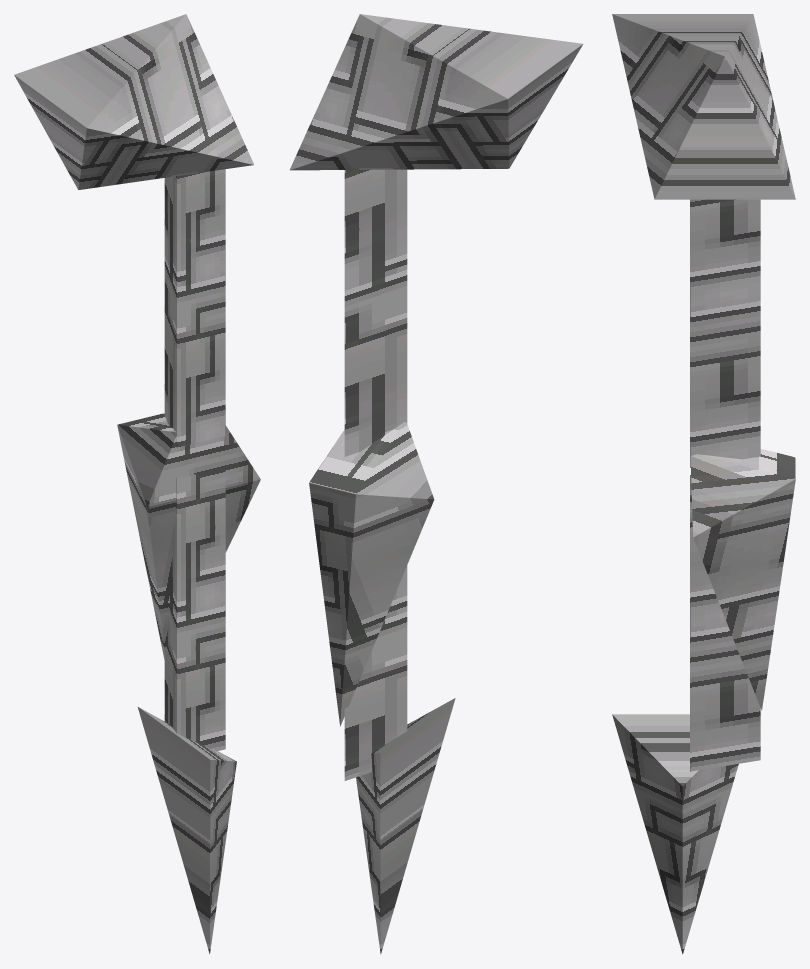
The model's file is RightFrameArmSkel.glb.
3 views of the same model, side by side, from view 1: azimuth 30°, elevation 25°; view 2: azimuth 150°, elevation 25°; view 3: azimuth 270°, elevation 25° (orthographic). The views are drawn at different scales.
Parts seen in each view (by area): view 1: RightFrameArmSkel_part00, RightFrameArmSkel_part01, RightFrameArmSkel_part02; view 2: RightFrameArmSkel_part00, RightFrameArmSkel_part01, RightFrameArmSkel_part02; view 3: RightFrameArmSkel_part00, RightFrameArmSkel_part01, RightFrameArmSkel_part02.
Part boxes in pixels (box(x1,y1,x2,y2)): RightFrameArmSkel_part00: box(14, 14, 253, 447); RightFrameArmSkel_part01: box(117, 413, 260, 751); RightFrameArmSkel_part02: box(137, 707, 236, 954); RightFrameArmSkel_part00: box(290, 14, 582, 456); RightFrameArmSkel_part01: box(309, 422, 434, 780); RightFrameArmSkel_part02: box(356, 698, 455, 954); RightFrameArmSkel_part00: box(612, 14, 795, 467); RightFrameArmSkel_part01: box(690, 449, 795, 771); RightFrameArmSkel_part02: box(612, 714, 738, 954).
Size of the model in its own units: 3.42 by 14.01 by 2.6.
1 material, 1 textured.
